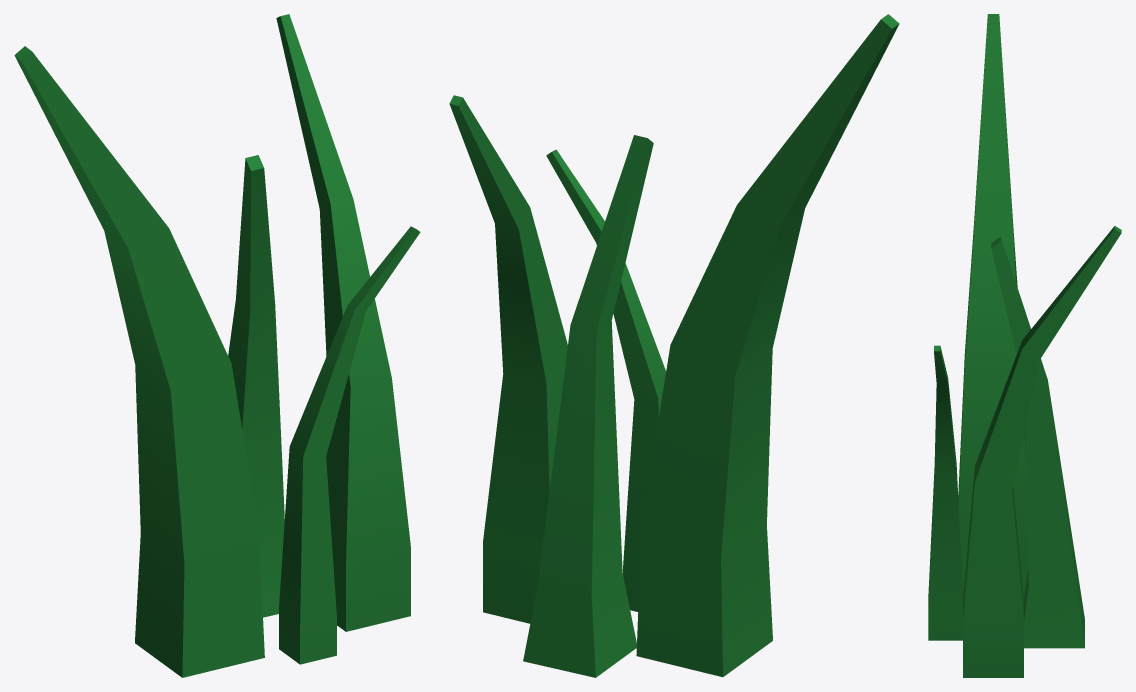
File: grass_01.fbx
3 renders of one model, left to right at view 1: azimuth 30°, elevation 25°; view 2: azimuth 150°, elevation 25°; view 3: azimuth 270°, elevation 25°, orthographic. The views are drawn at different scales.
Parts seen in each view (by area): view 1: grass_01; view 2: grass_01; view 3: grass_01.
Boxes of the visible parts, <box> form: grass_01: <box>14,14,420,677</box>; grass_01: <box>449,14,899,677</box>; grass_01: <box>928,14,1121,677</box>.
Bounding box in the file's own units: 38.2 × 62.76 × 21.08.
